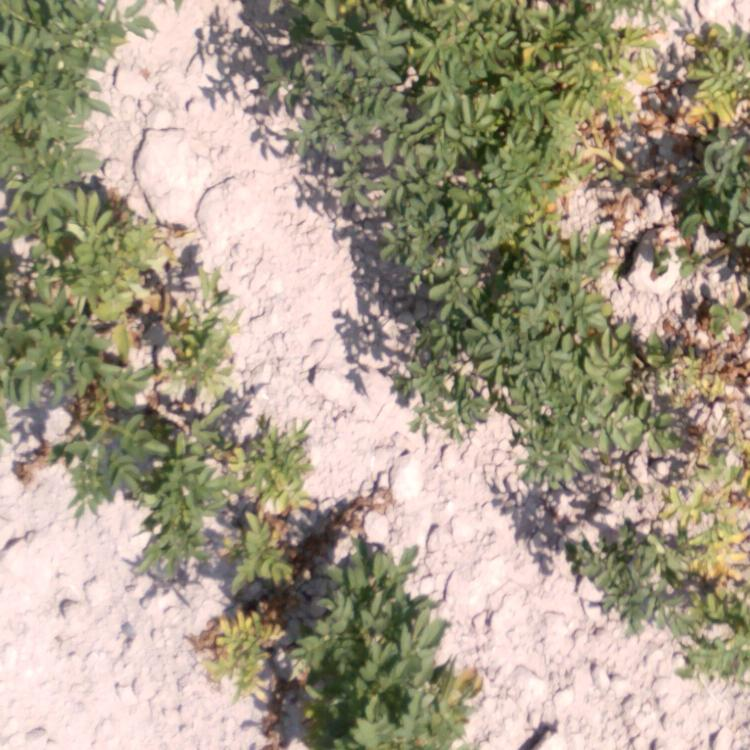healthy: (231, 1, 507, 137), (294, 544, 469, 750), (307, 144, 507, 277), (521, 205, 605, 469), (1, 1, 107, 198), (389, 280, 510, 420), (528, 479, 626, 585)
stressed: (1, 359, 316, 473), (1, 209, 236, 356), (126, 480, 281, 662), (622, 478, 750, 683), (511, 1, 638, 202), (629, 286, 749, 477), (648, 1, 750, 147)
